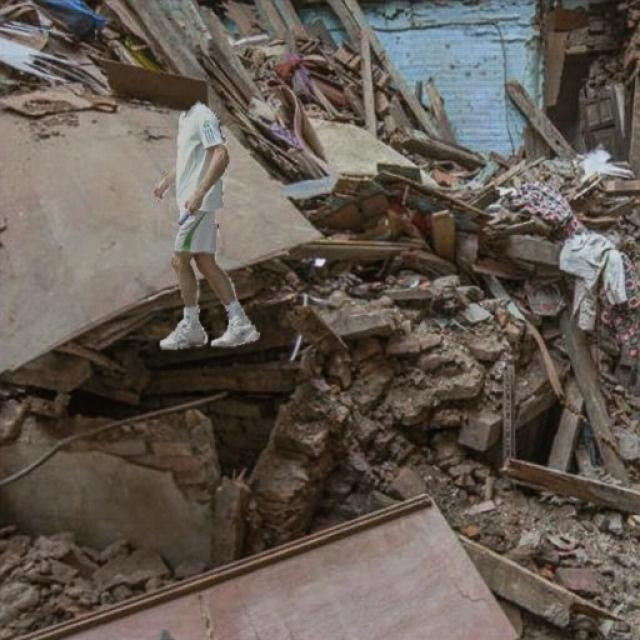Person in Rubble: (152, 100, 258, 349)
